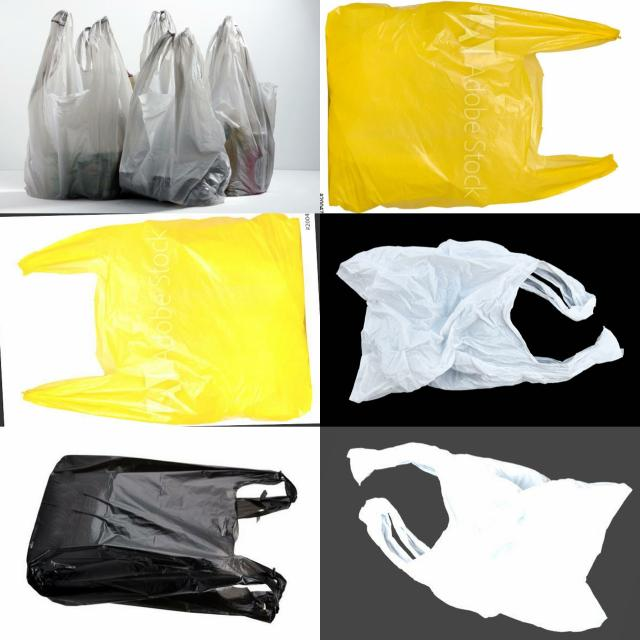Single-layer Plastic: (325, 2, 619, 212), (19, 214, 311, 424), (348, 442, 630, 632), (337, 240, 623, 402), (28, 455, 296, 622), (120, 10, 230, 205), (24, 11, 131, 199), (205, 16, 276, 196)
